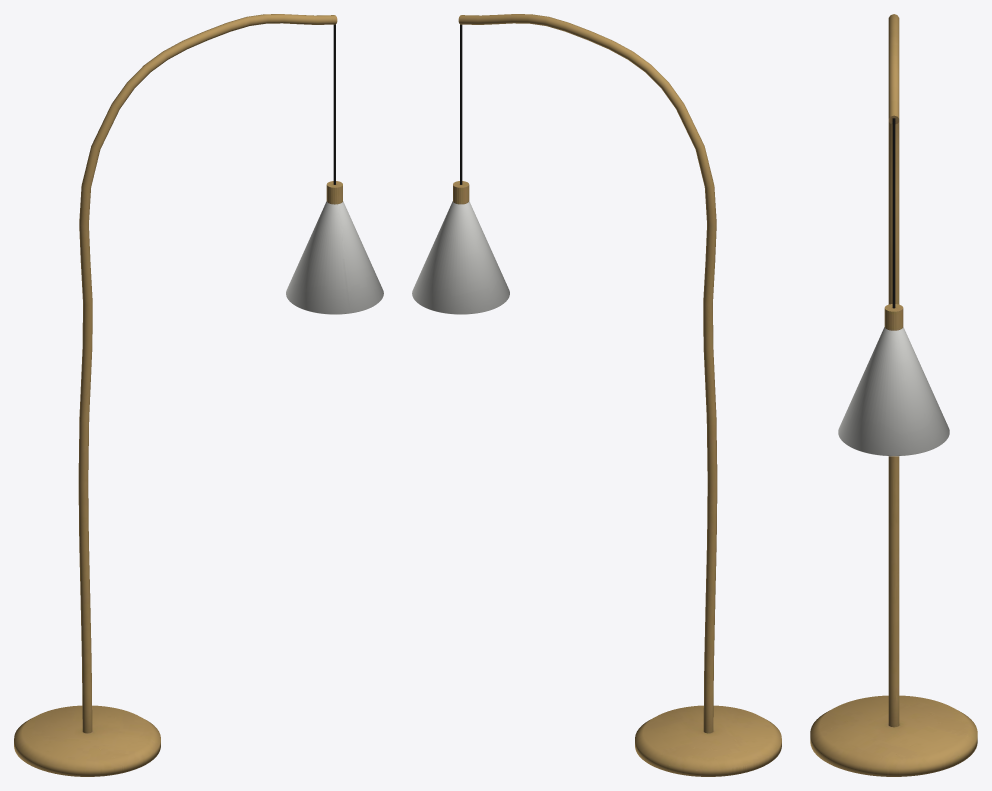
File: cone-white.glb
The picture shows the model from 3 angles, left to right: view 1: azimuth 30°, elevation 25°; view 2: azimuth 150°, elevation 25°; view 3: azimuth 270°, elevation 25°; orthographic projection. The views are drawn at different scales.
Parts seen in each view (by area): view 1: brass, paint_primary_shade; view 2: brass, paint_primary_shade; view 3: brass, paint_primary_shade, cord.
Part boxes in pixels (bbox=[...]): brass: bbox=[14, 14, 342, 776]; paint_primary_shade: bbox=[286, 201, 383, 314]; brass: bbox=[453, 14, 781, 776]; paint_primary_shade: bbox=[412, 201, 509, 314]; brass: bbox=[810, 14, 977, 776]; paint_primary_shade: bbox=[838, 327, 949, 456]; cord: bbox=[892, 118, 895, 308].
Size of the model in its own units: 1 by 1.86 by 0.36.
Materials: 4 (2 with a texture image).
